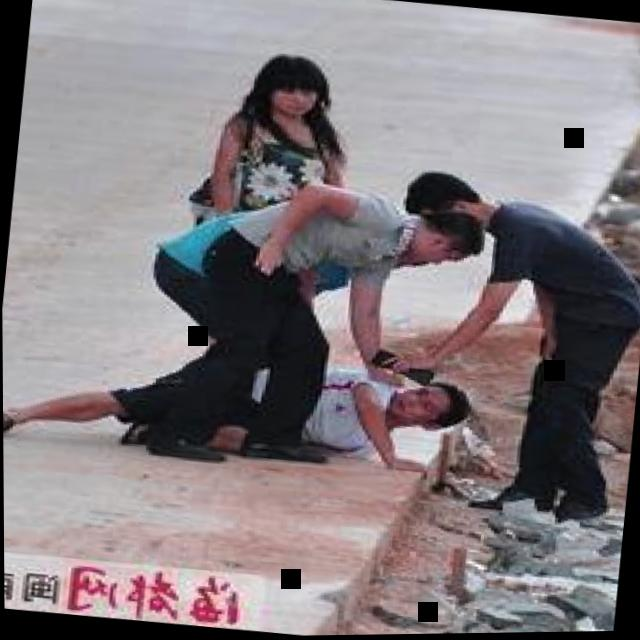Fall-Detected: (2, 298, 490, 484)
